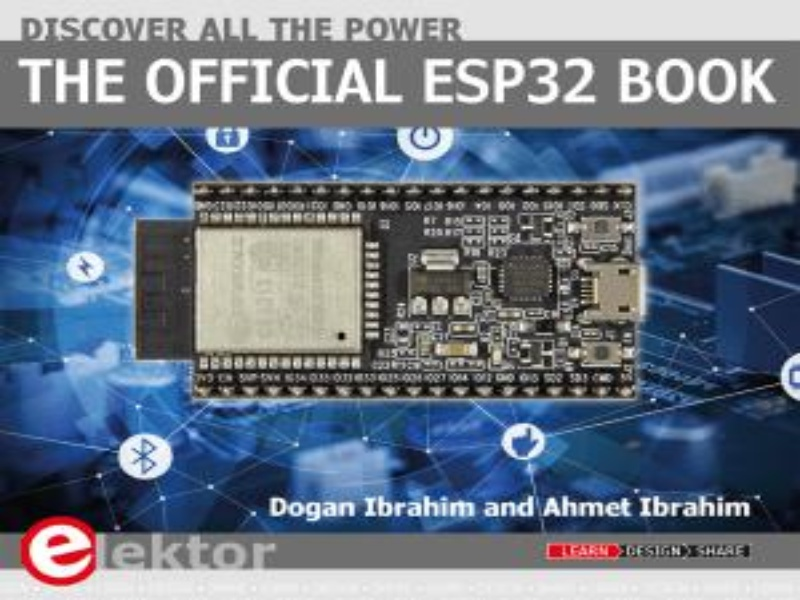esp32: (95, 160, 690, 422)
